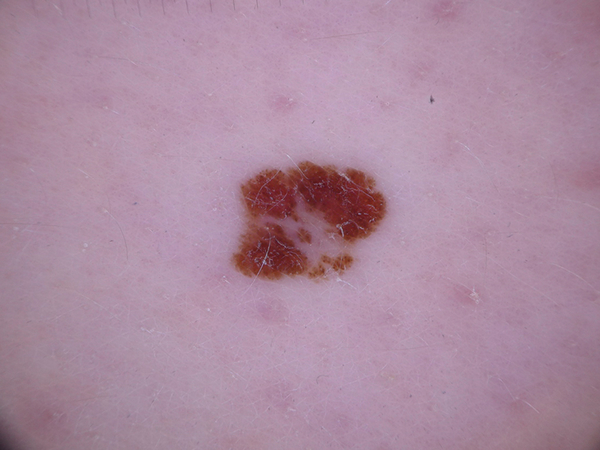Detected Lesion: (224, 155, 396, 289)
